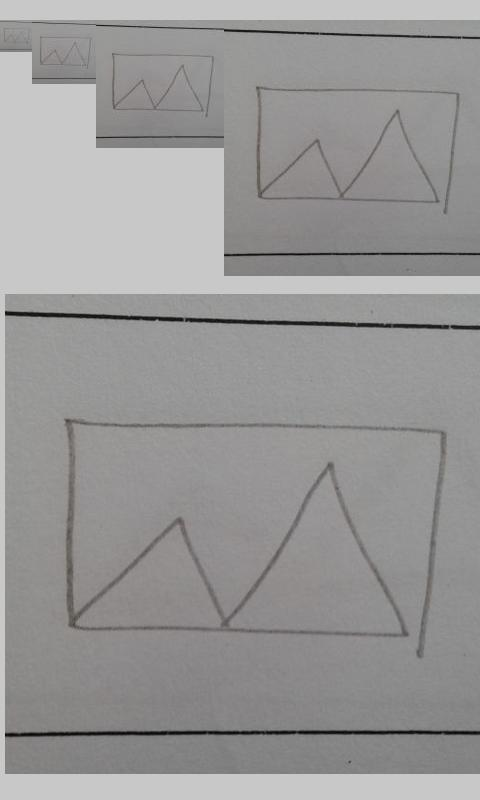image_view: (65, 418, 446, 640), (256, 84, 462, 206), (112, 52, 214, 112), (39, 36, 91, 66), (3, 27, 30, 44)
